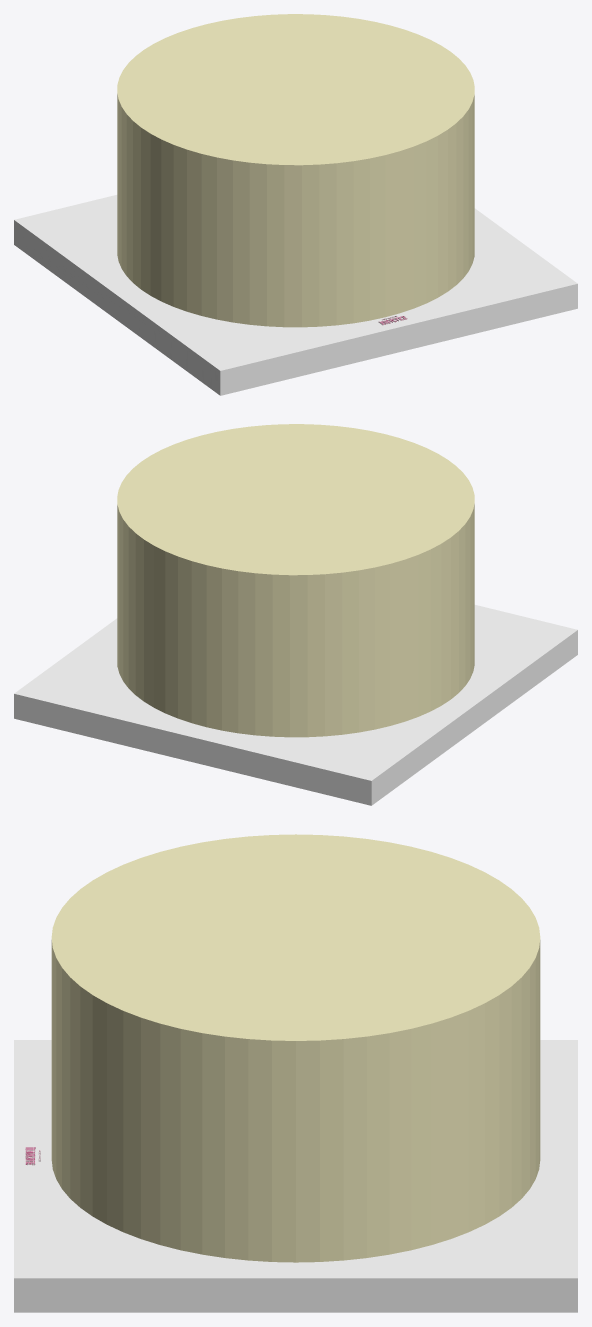
Rendered from cake_10in_layers3_v35.glb.
3 views of the same model, one above another, from view 1: azimuth 30°, elevation 25°; view 2: azimuth 150°, elevation 25°; view 3: azimuth 270°, elevation 25° (orthographic). The views are drawn at different scales.
Parts seen in each view (by area): view 1: Cake, Board; view 2: Cake, Board; view 3: Cake, Board.
Part boxes in pixels (x1,y1,x2,y2): Cake: (117, 14, 474, 327); Board: (14, 195, 577, 395); Cake: (117, 424, 474, 737); Board: (14, 605, 577, 805); Cake: (51, 834, 540, 1262); Board: (14, 1040, 577, 1312).
Bounding box in the file's own units: 0.3 × 0.15 × 0.3.
